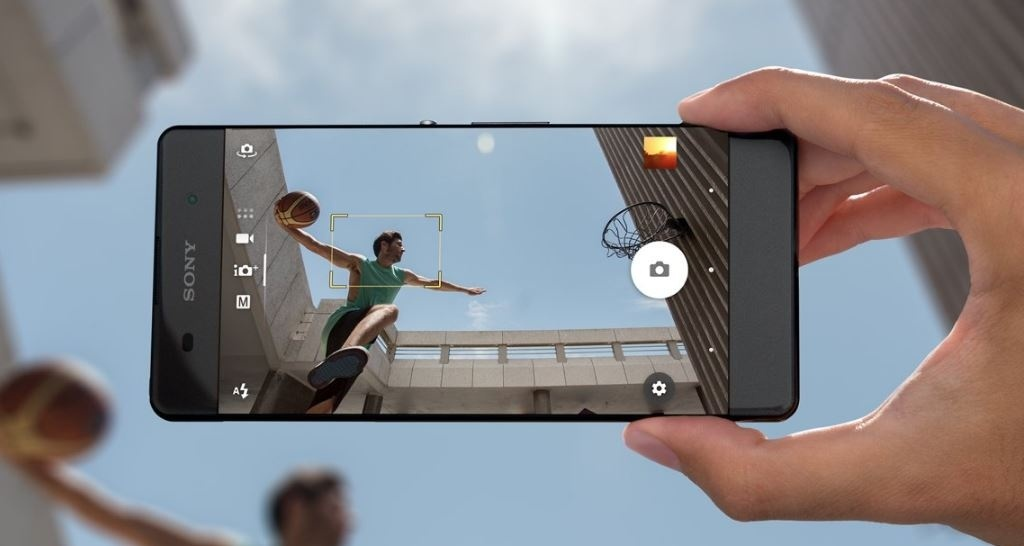smartphone: (148, 120, 800, 422)
